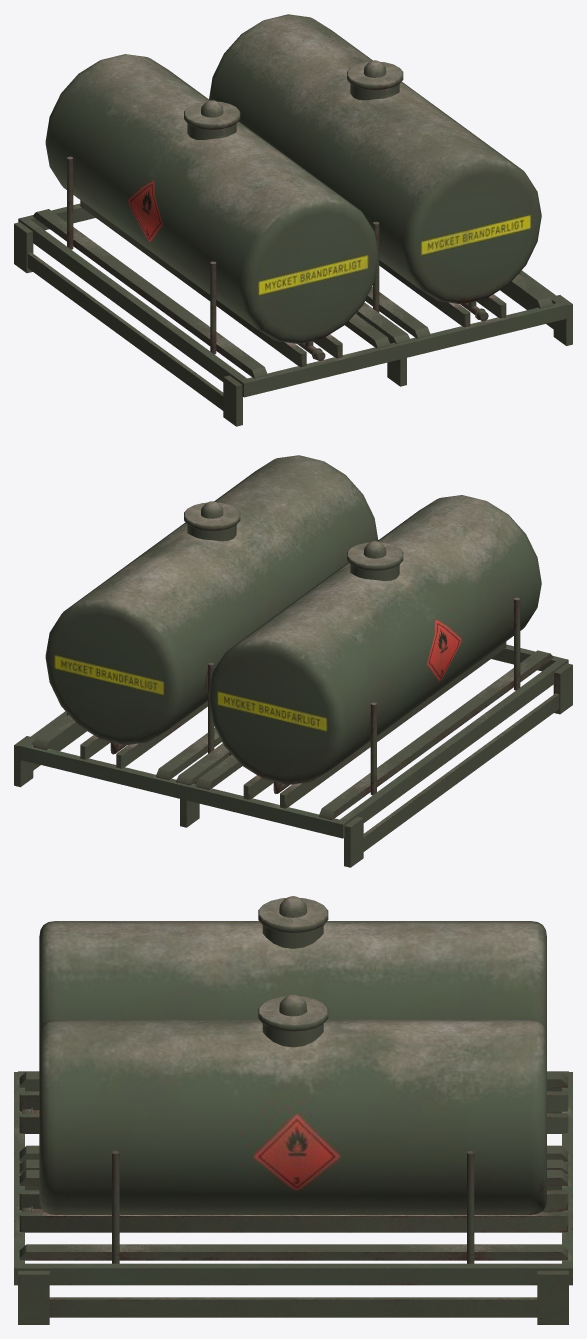
The model's file is fuel_tank_rusty.obj.
3 renders of one model, top to bottom at view 1: azimuth 30°, elevation 25°; view 2: azimuth 150°, elevation 25°; view 3: azimuth 270°, elevation 25°, orthographic. The views are drawn at different scales.
Visible parts, largest first — view 1: Box001; view 2: Box001; view 3: Box001.
Part boxes in pixels (x1,y1,x2,y2): Box001: (14, 14, 572, 426); Box001: (14, 455, 572, 867); Box001: (14, 896, 572, 1324).
Size of the model in its own units: 1.72 by 1.09 by 2.
1 material, 1 textured.
